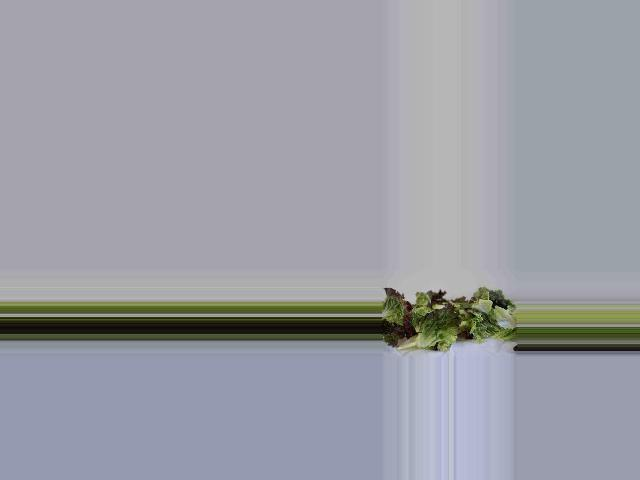lettuce: (386, 292, 509, 342)
